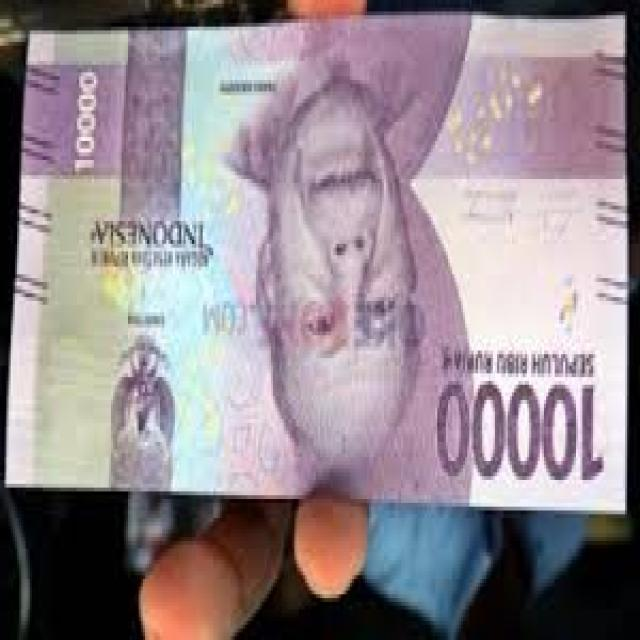sepuluh ribu rupiah: (16, 25, 626, 504)
